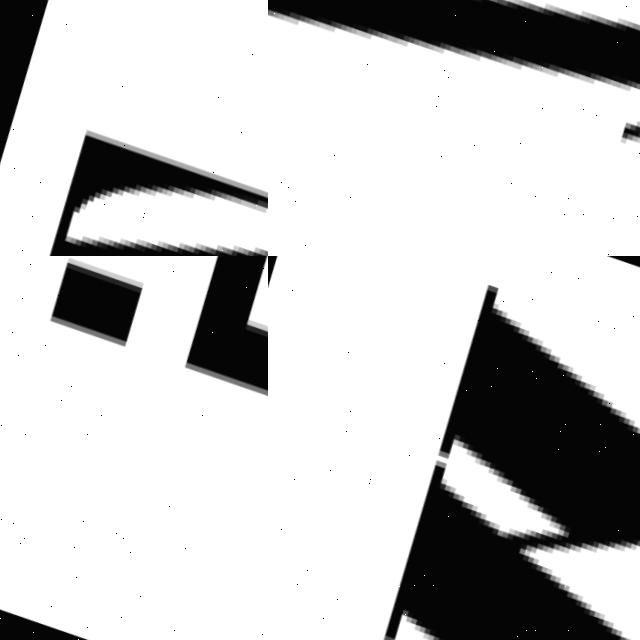I: (0, 256, 268, 621)
L: (268, 0, 640, 196)
W: (283, 267, 640, 640)
Z: (0, 76, 268, 256)
